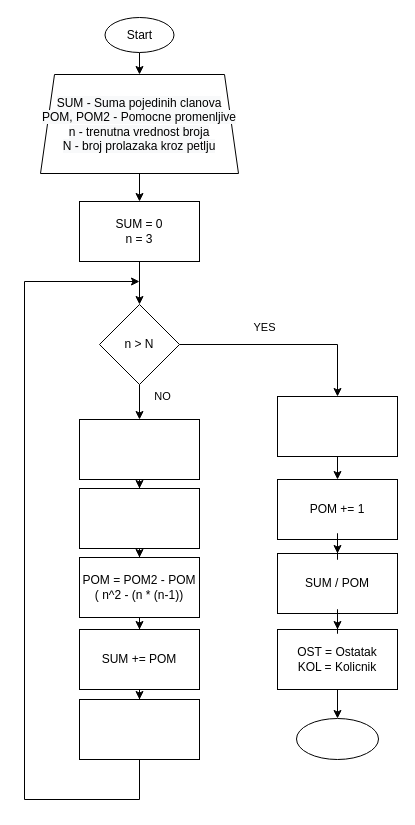
Image size: 415x825. Some labels were removed from this diagram. Each missing label, with the centre of its shape:
END: point (337, 739)
n += 2: point (139, 729)
POM = - N: point (337, 426)
POM = n * (n-1): point (139, 449)
POM2 = n*n: point (139, 518)
